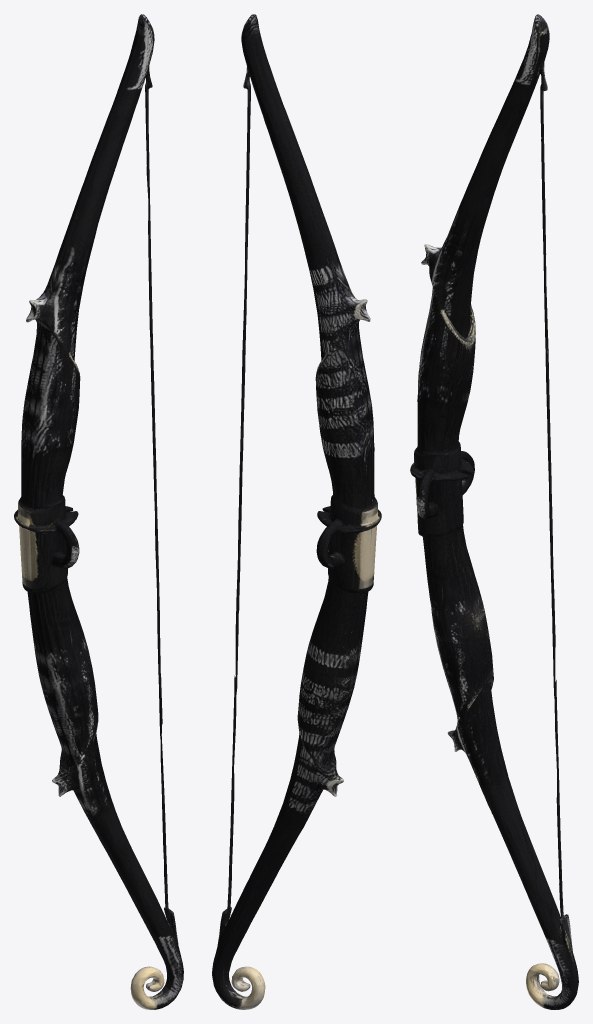
The model's file is bow_1.glb.
3 renders of one model, left to right at view 1: azimuth 30°, elevation 25°; view 2: azimuth 150°, elevation 25°; view 3: azimuth 330°, elevation 25°, orthographic.
Visible parts, largest first — view 1: bow; view 2: bow; view 3: bow.
Part boxes in pixels (x1,y1,x2,y2): bow: (14, 14, 183, 1009); bow: (212, 14, 381, 1009); bow: (410, 14, 578, 1009).
Size of the model in its own units: 0.2307 by 1.35 by 0.1291.
1 material, 1 textured.
